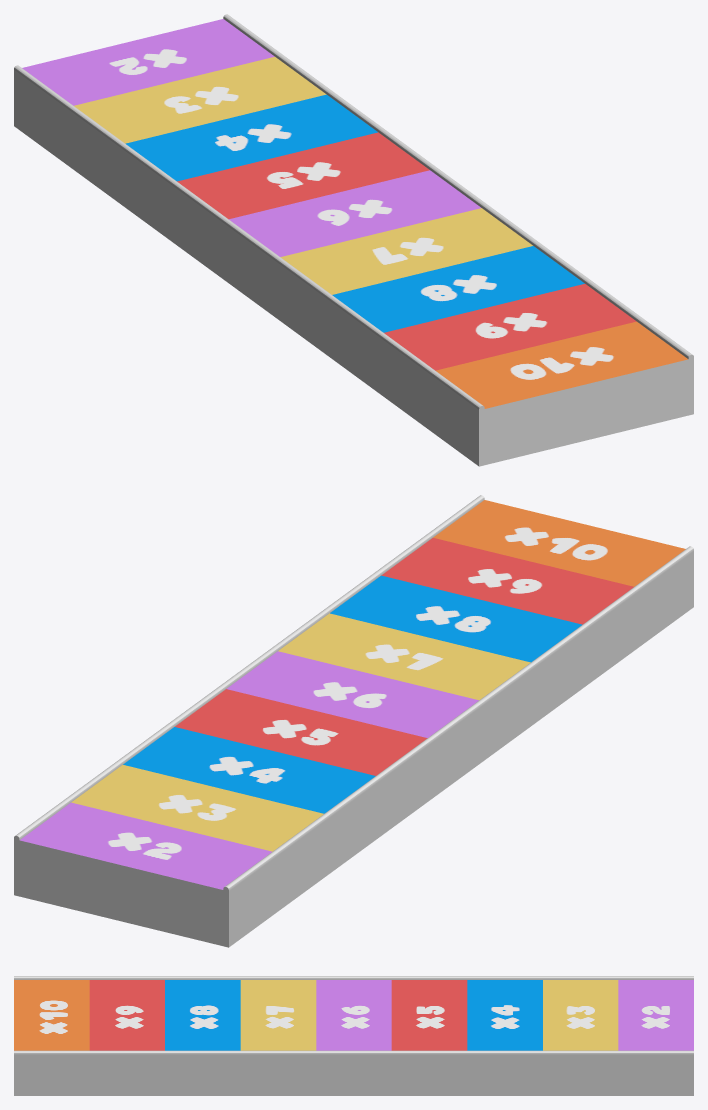
File: PlatfromX.fbx
3 renders of one model, top to bottom at view 1: azimuth 30°, elevation 25°; view 2: azimuth 150°, elevation 25°; view 3: azimuth 270°, elevation 25°, orthographic. The views are drawn at different scales.
Parts seen in each view (by area): view 1: PlatfromX; view 2: PlatfromX; view 3: PlatfromX.
Boxes of the visible parts, bbox=[...] form: PlatfromX: bbox=[14, 14, 693, 466]; PlatfromX: bbox=[14, 495, 693, 947]; PlatfromX: bbox=[14, 976, 693, 1095].
Size of the model in its own units: 800 by 213 by 3000.
